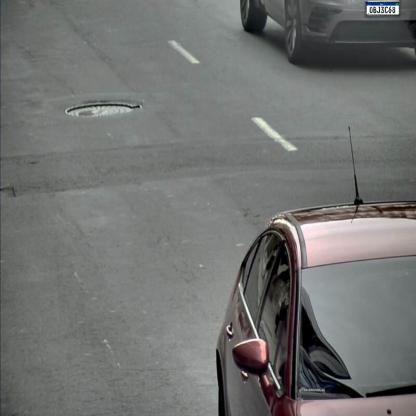PlacaM: (366, 2, 399, 15)
